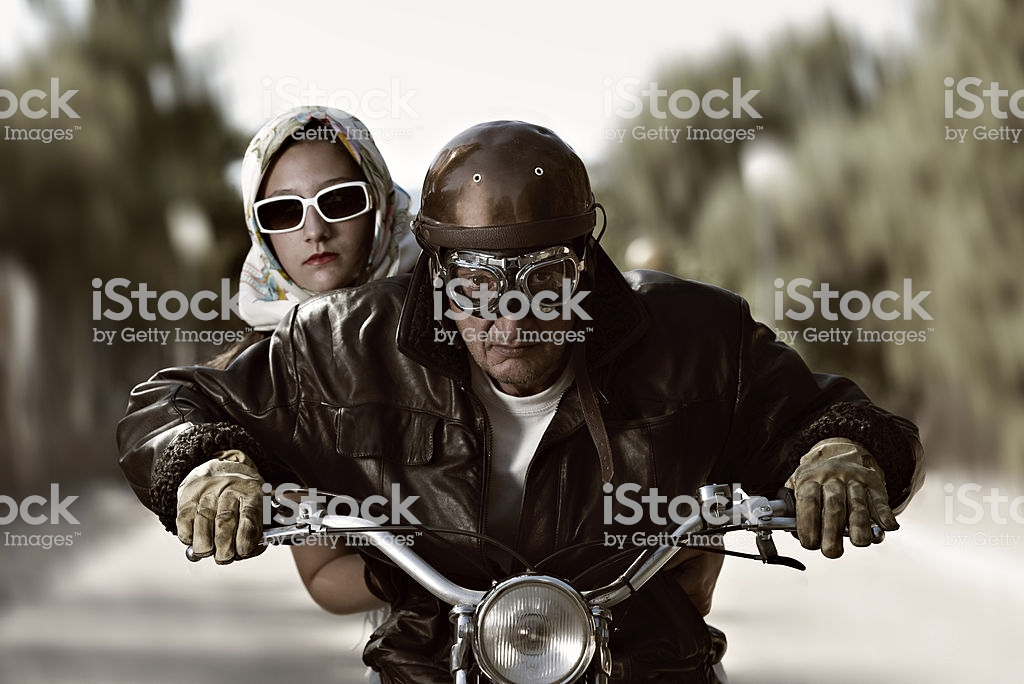helmet: (406, 119, 592, 274)
